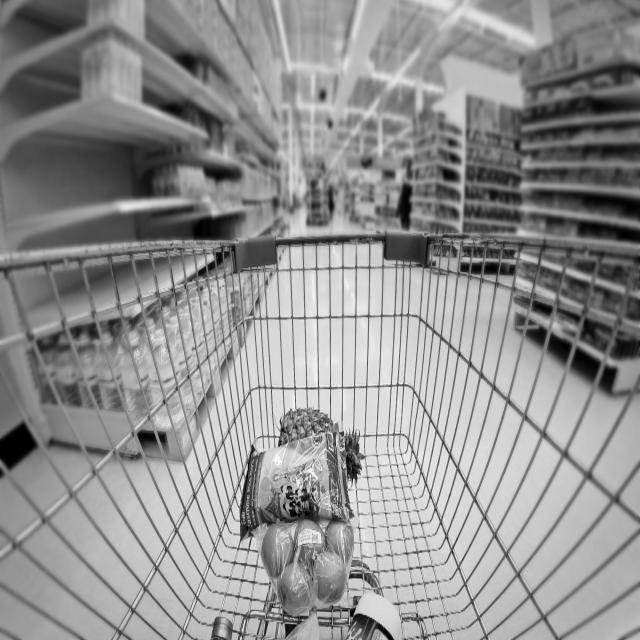dua: (278, 408, 364, 483)
sua: (344, 588, 402, 640)
tao: (259, 520, 361, 610)
